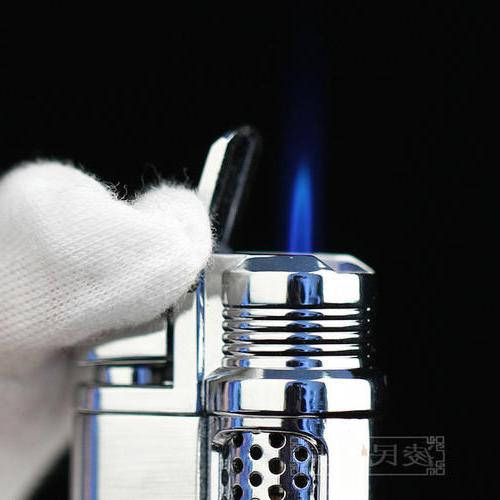fire: (267, 150, 338, 261)
